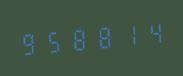eight: (66, 22, 89, 56), (90, 20, 113, 54)
five: (41, 24, 64, 58)
four: (138, 16, 161, 49)
nine: (17, 26, 40, 60)
one: (114, 18, 137, 51)
